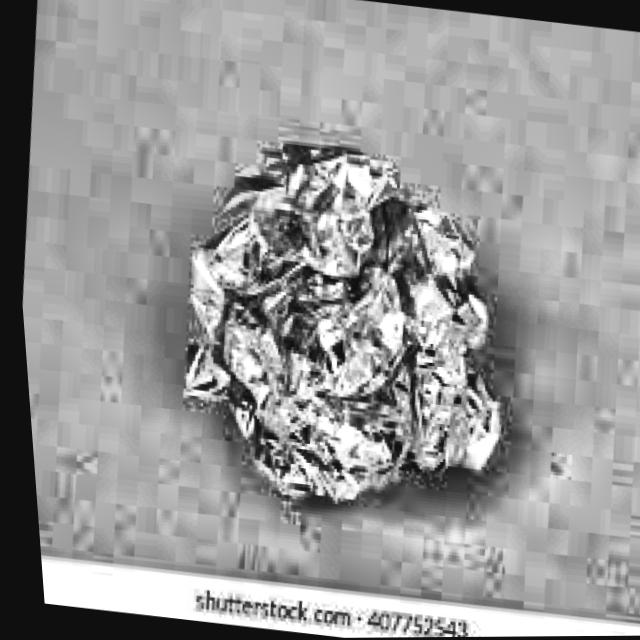Foil: (143, 109, 554, 537)
